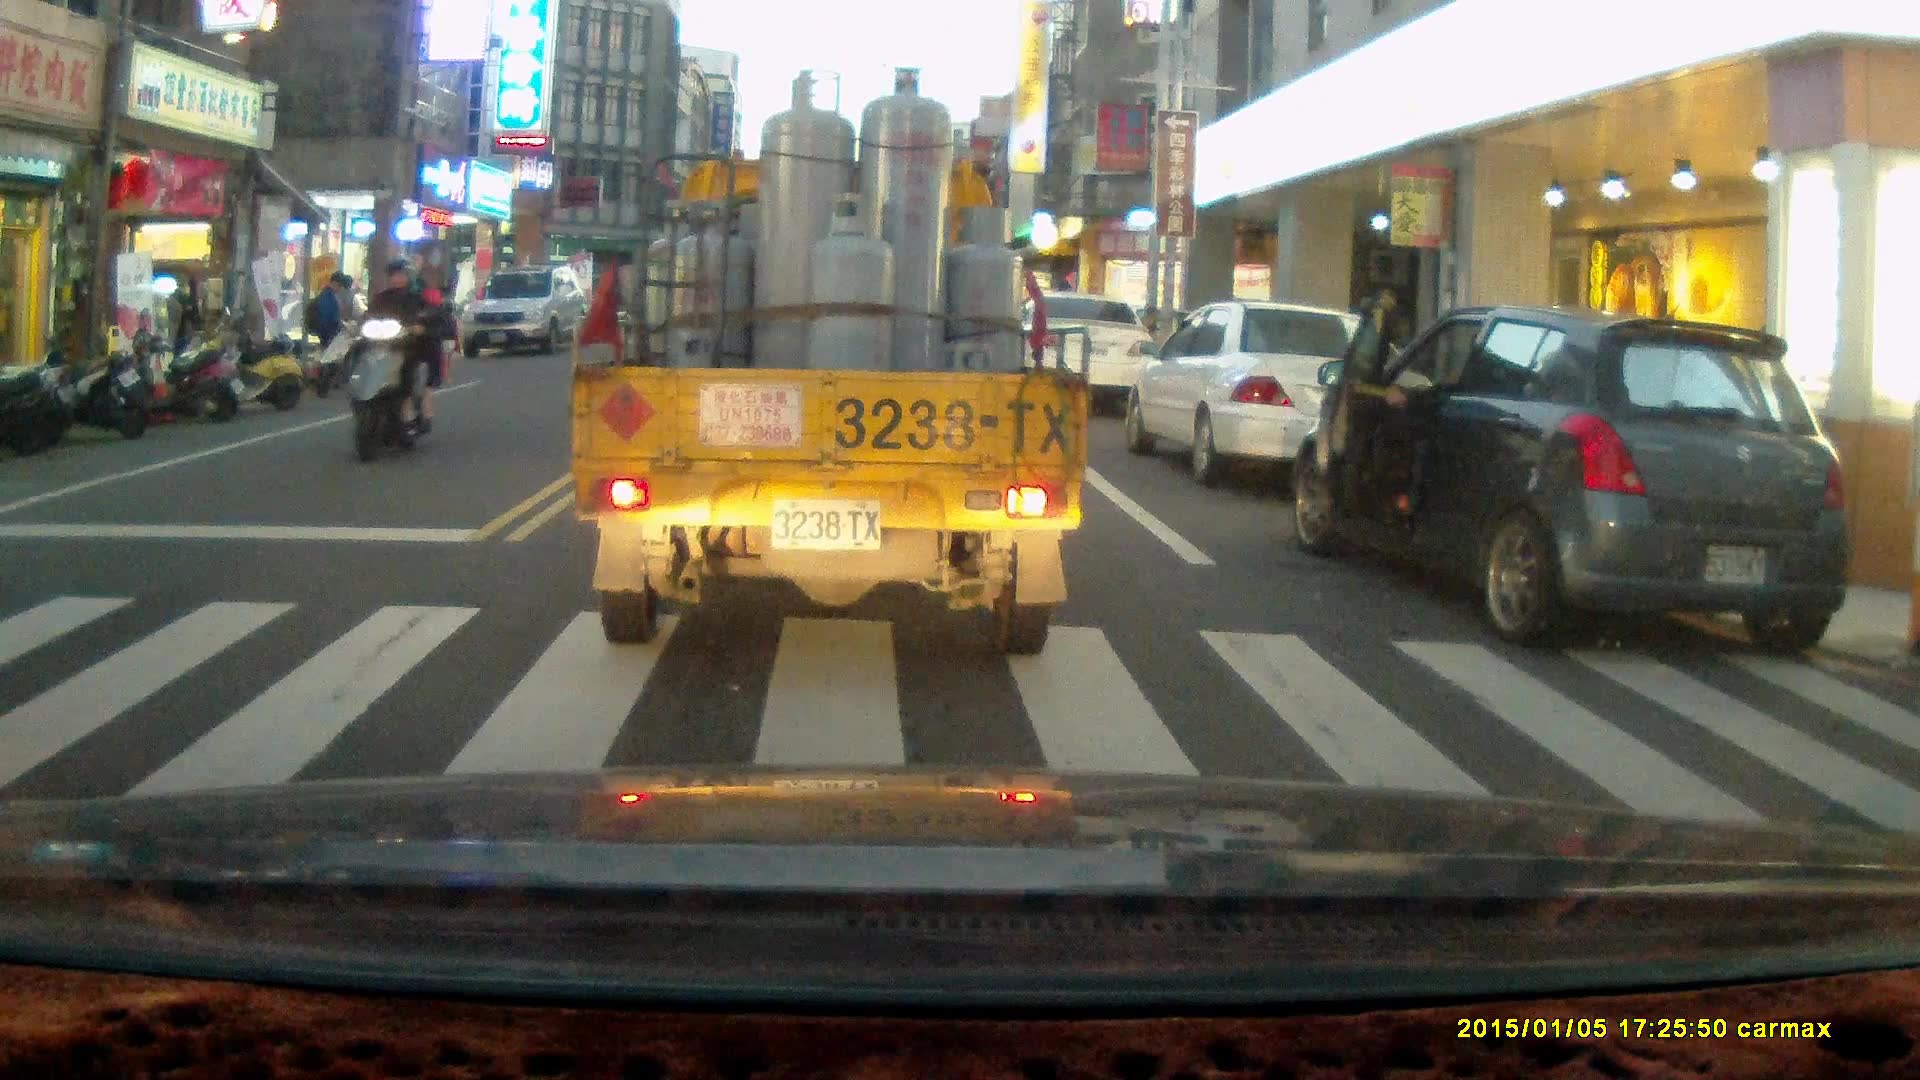pedestrian: (312, 273, 349, 390), (161, 280, 197, 391), (426, 284, 461, 383)
rider: (345, 254, 445, 463)
vehicle: (567, 61, 1078, 653), (1289, 310, 1854, 666), (1125, 304, 1424, 488), (1026, 295, 1160, 413), (459, 270, 589, 364)
